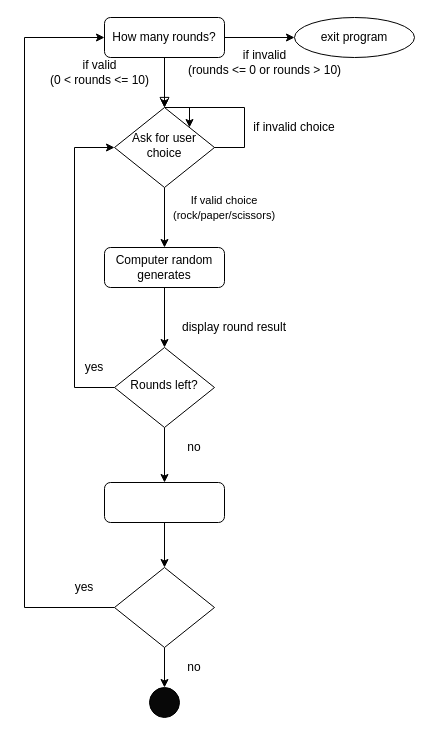
This 432x735 diagram has some shape labels left out. Each missing label, with the box of its shape:
Play again?: (114, 566, 214, 648)
print game info, declare winner: (104, 482, 224, 522)
